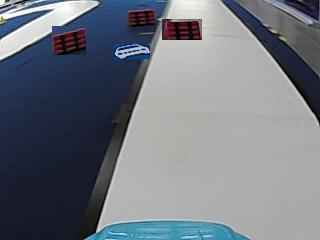bomb: (128, 8, 156, 25)
